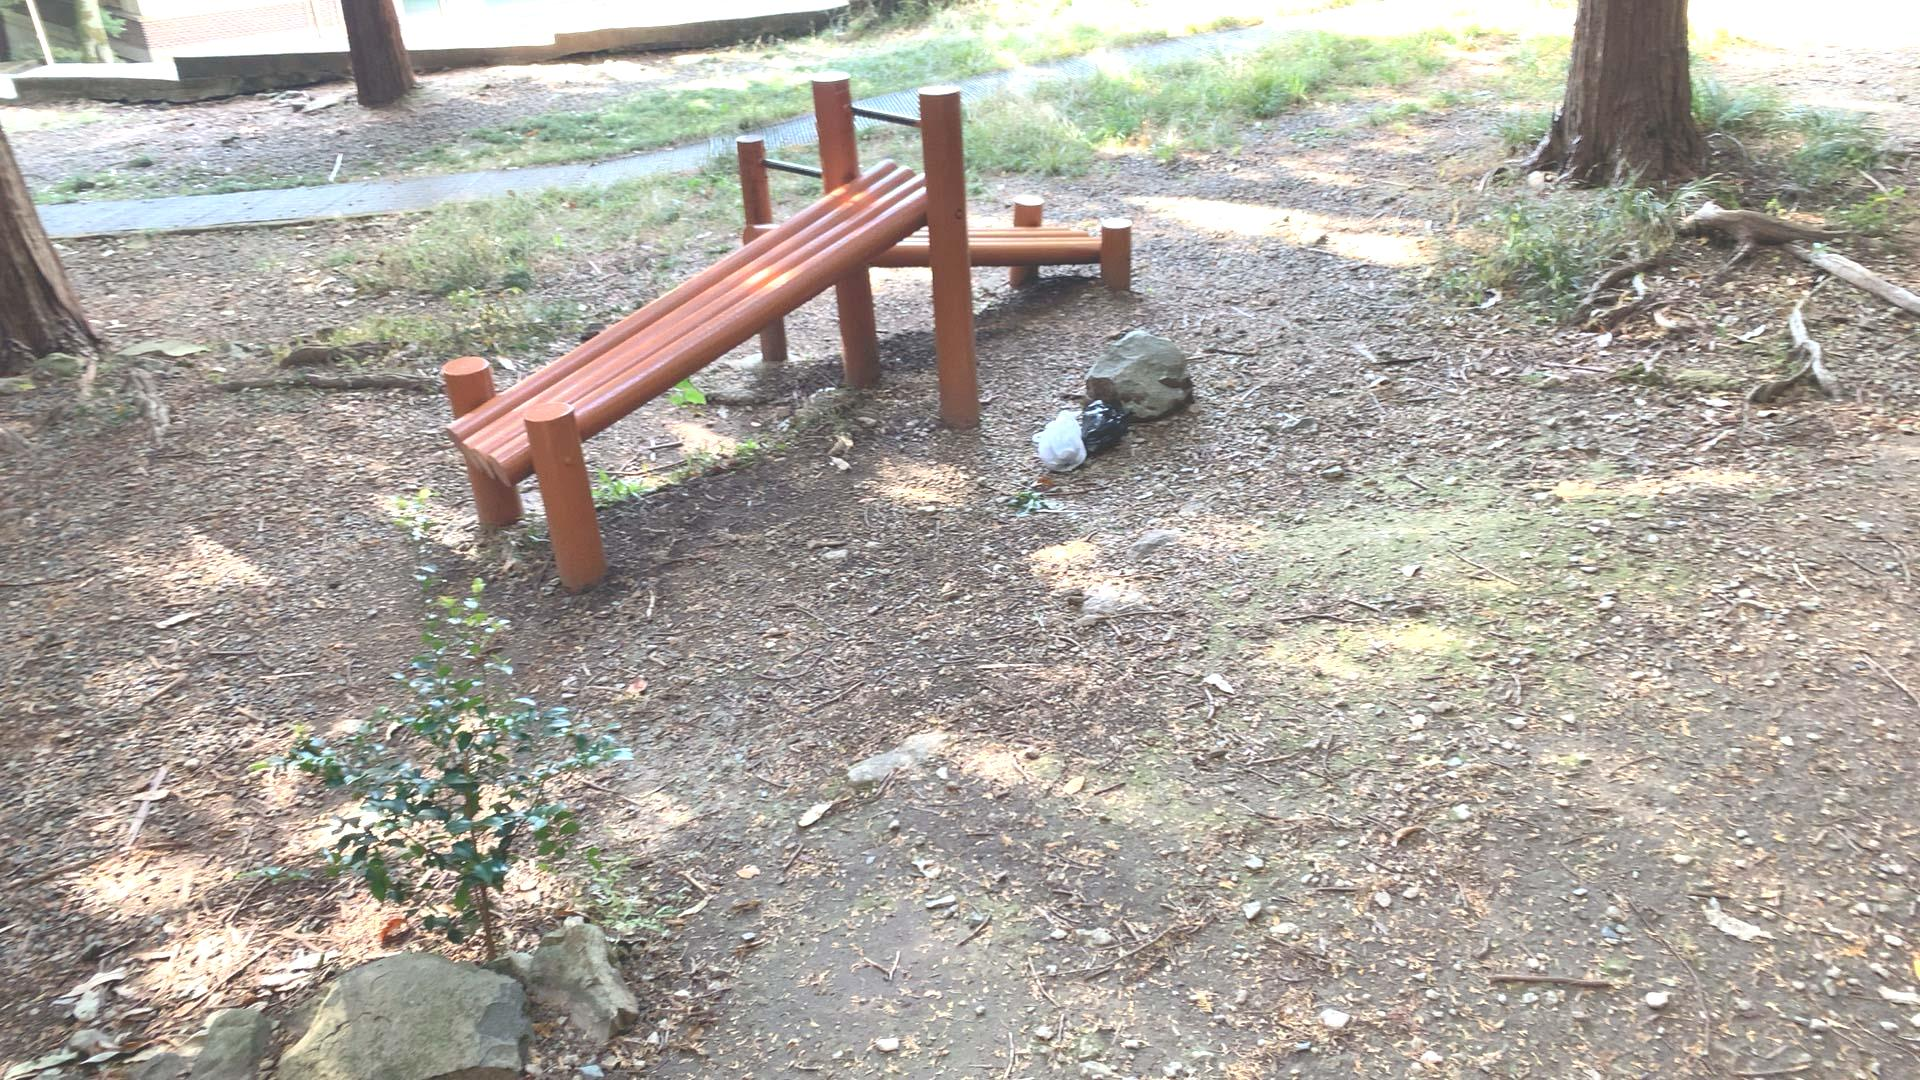black_bag: (1080, 398, 1127, 458)
white_bag: (1026, 407, 1088, 473)
